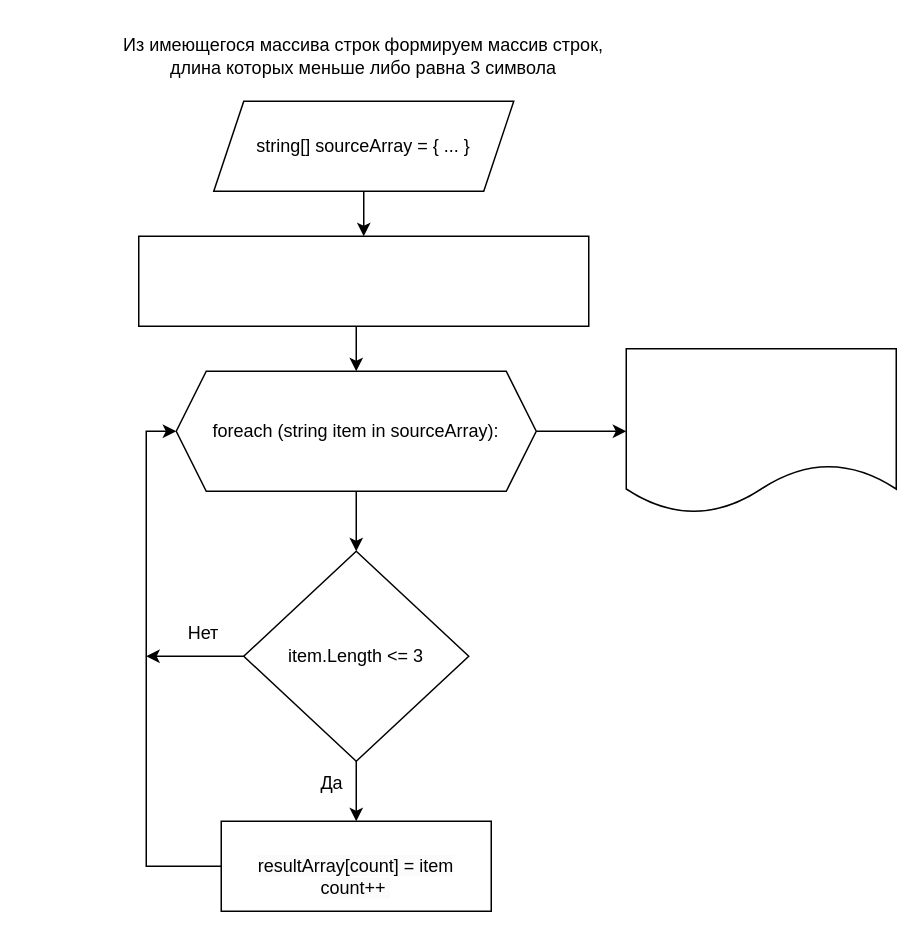
The diagram is 923 pixels wide and 938 high, and some of its shapes have lost their labels. Here are the shapes that lost their labels. From the top down, the centre of each, then its label:
At pixel 363 280: "string[] resultArray = new string[sourceArray.Length] int count = 0".
At pixel 760 430: "Вывод resultArray, count".
